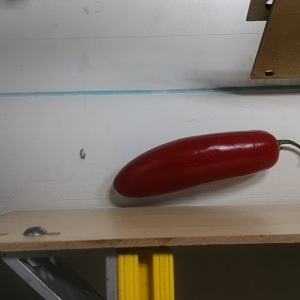Cut Point: (264, 129, 288, 168)
